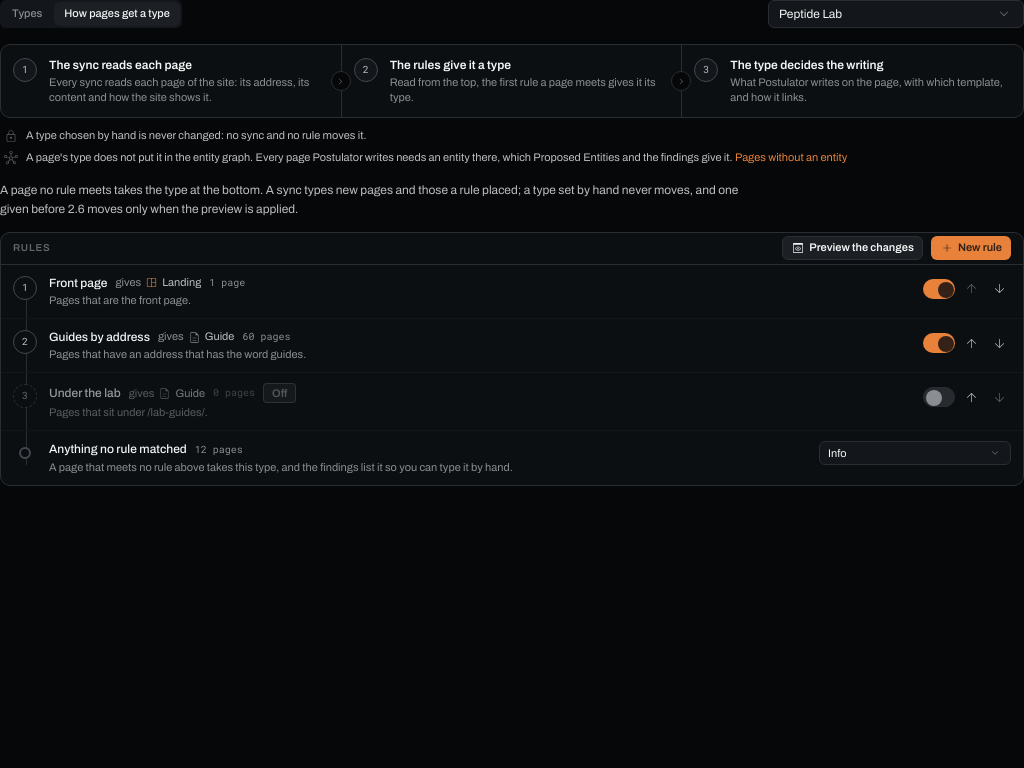
Scenario: Settings, Page types, how pages get a type › tests the rule being edited on a page, condition by condition, with the page's facts and what the rules give it
Click the button with aria-label "Edit Guides by address" at (99, 337), box left=49, top=329, right=911, bottom=362
(page scrolled)
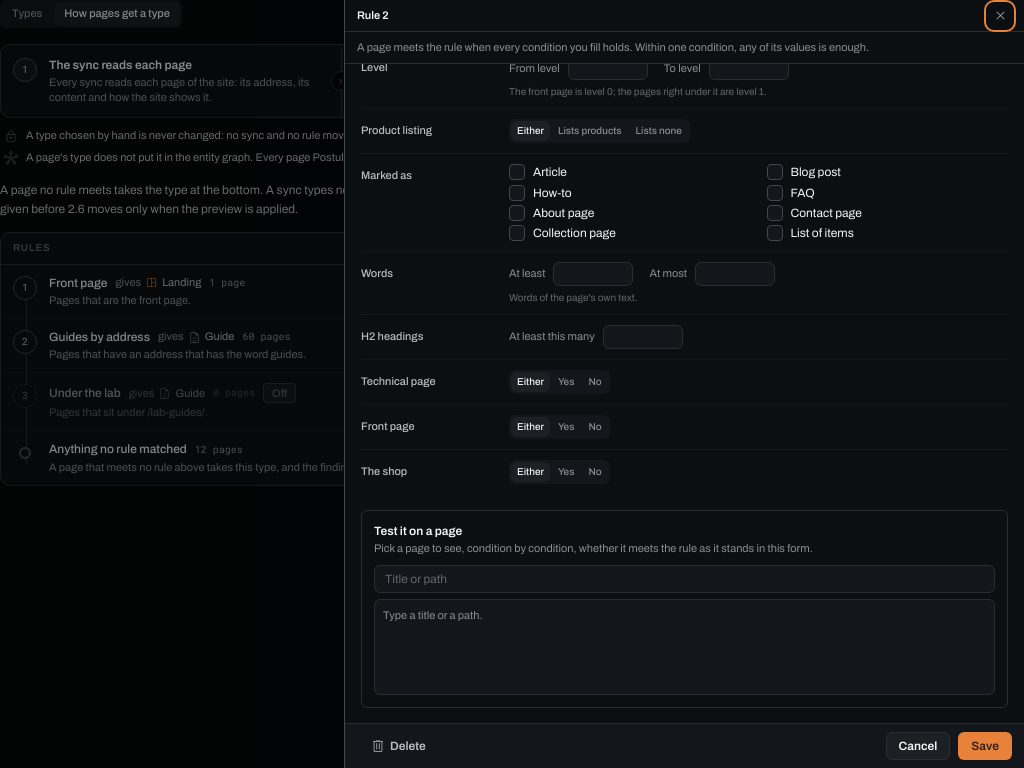
Type "recon" into the search field at (684, 579), box left=374, top=565, right=995, bottom=593
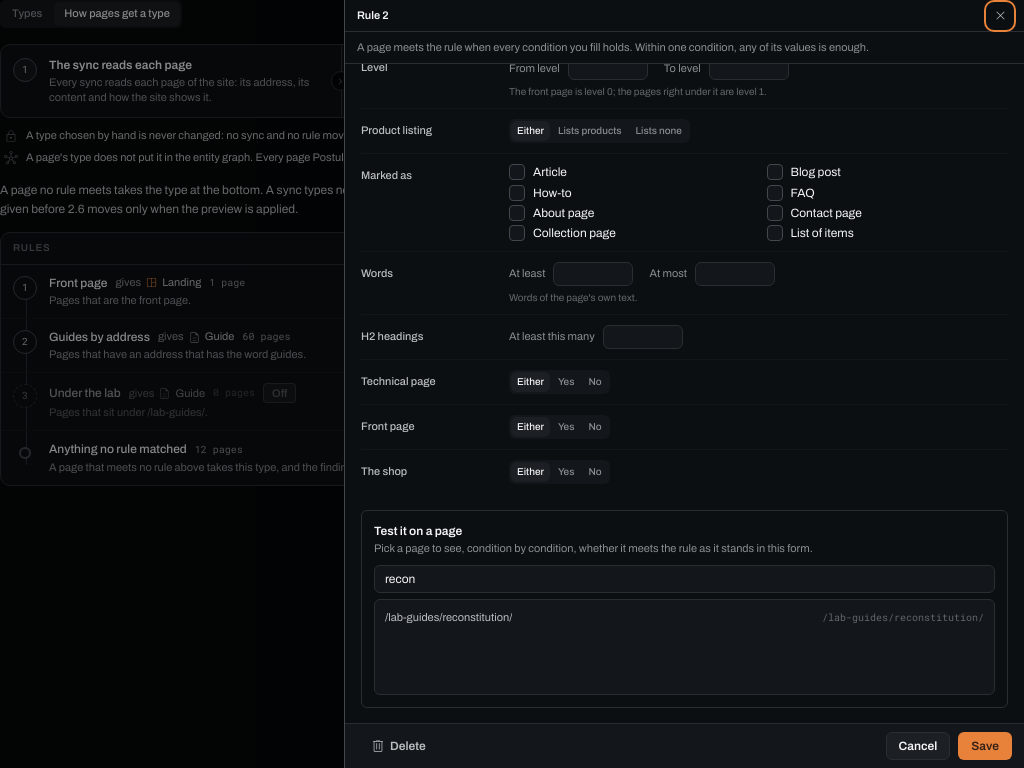
Check: the option "/lab-guides/reconstitution/ /lab-guides/reconstitution/" is shown
Click the option "/lab-guides/reconstitution/ /lab-guides/reconstitution/" at (449, 617), box left=379, top=604, right=990, bottom=632
(page scrolled)
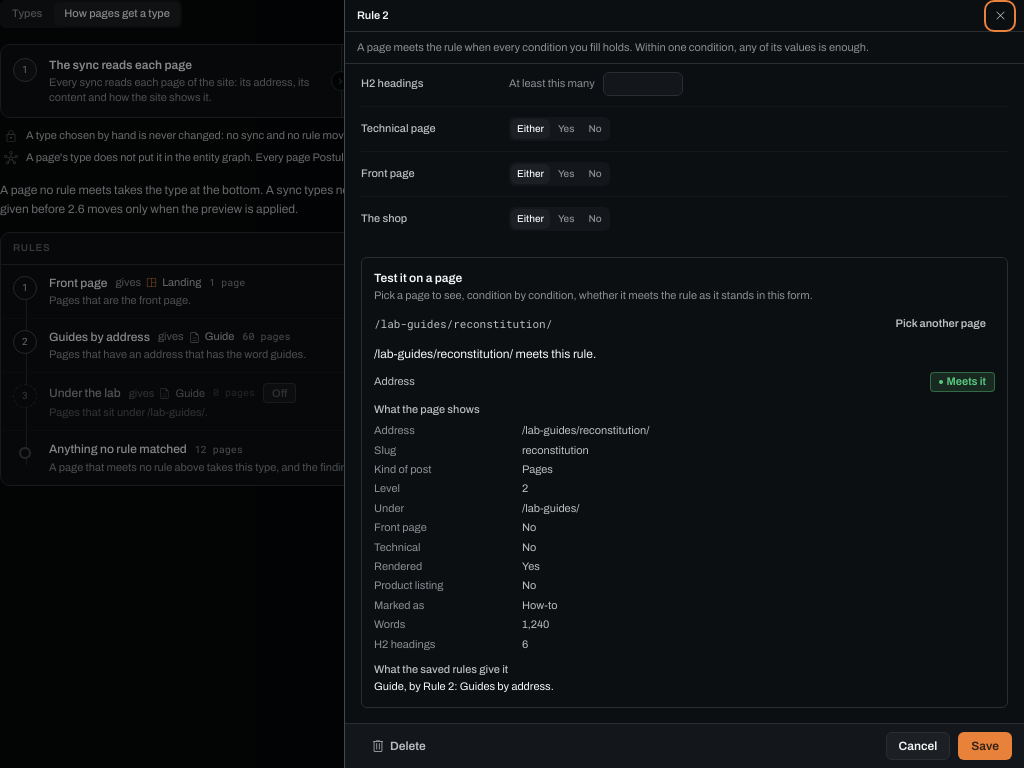
Check: the text "How-to" is shown, box left=522, top=599, right=558, bottom=611
Check: the text "Meets it" is shown, box left=930, top=372, right=995, bottom=392
Check: the text "/lab-guides/" is shown, box left=522, top=502, right=580, bottom=514
